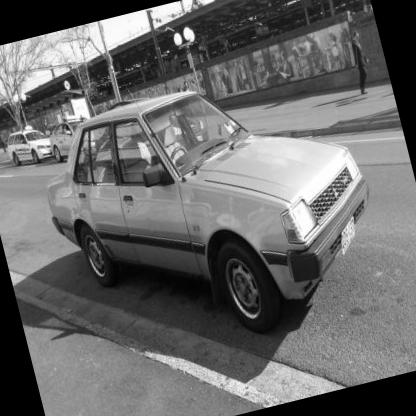car: (21, 44, 412, 391)
